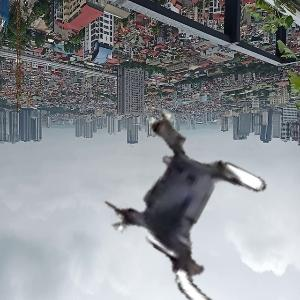drone: (94, 119, 276, 300)
